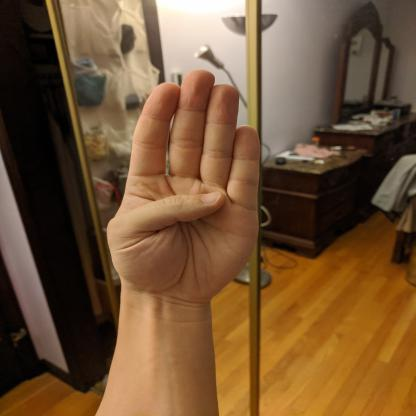B: (100, 67, 266, 306)
